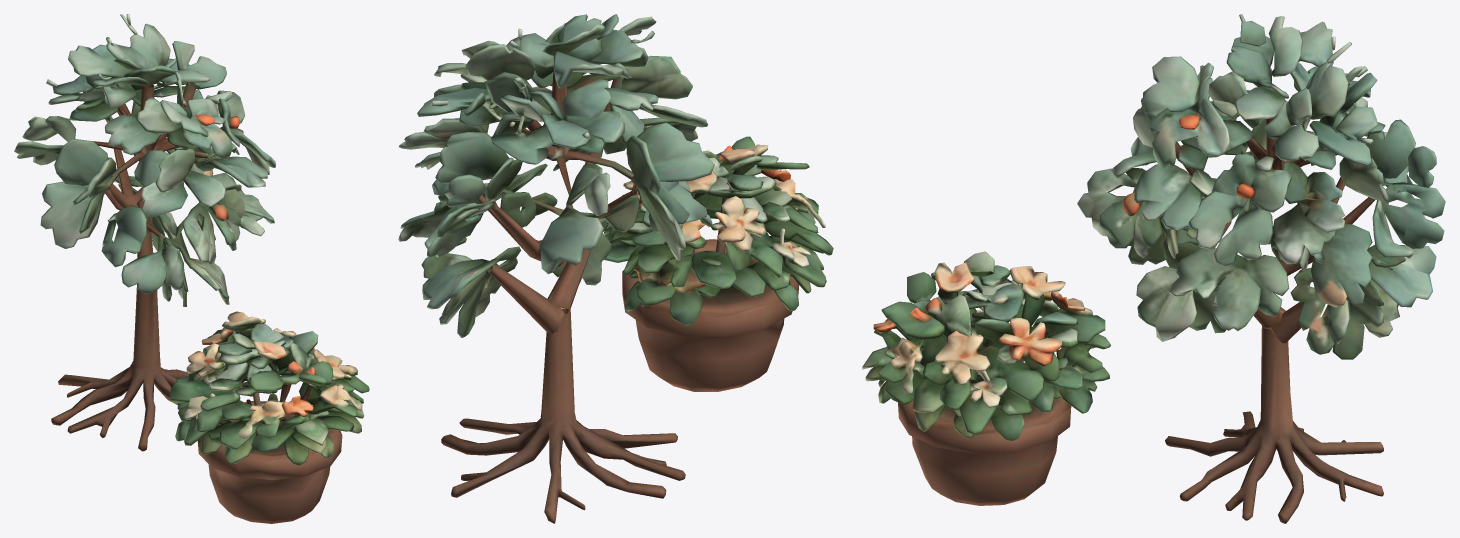
Rendered from foliage-kit.glb.
3 views of the same model, side by side, from view 1: azimuth 30°, elevation 25°; view 2: azimuth 150°, elevation 25°; view 3: azimuth 270°, elevation 25° (orthographic). The views are drawn at different scales.
Visible parts, largest first — view 1: tripo_node_25814f77-806a-4286-b7f8-538eb0e85b8d; view 2: tripo_node_25814f77-806a-4286-b7f8-538eb0e85b8d; view 3: tripo_node_25814f77-806a-4286-b7f8-538eb0e85b8d.
Boxes of the visible parts, x1,y1,x2,y2 form: tripo_node_25814f77-806a-4286-b7f8-538eb0e85b8d: [14, 14, 369, 523]; tripo_node_25814f77-806a-4286-b7f8-538eb0e85b8d: [398, 14, 833, 523]; tripo_node_25814f77-806a-4286-b7f8-538eb0e85b8d: [862, 14, 1445, 523].
Bounding box in the file's own units: 0.3474 × 0.6 × 0.7016.
1 material, 1 textured.
